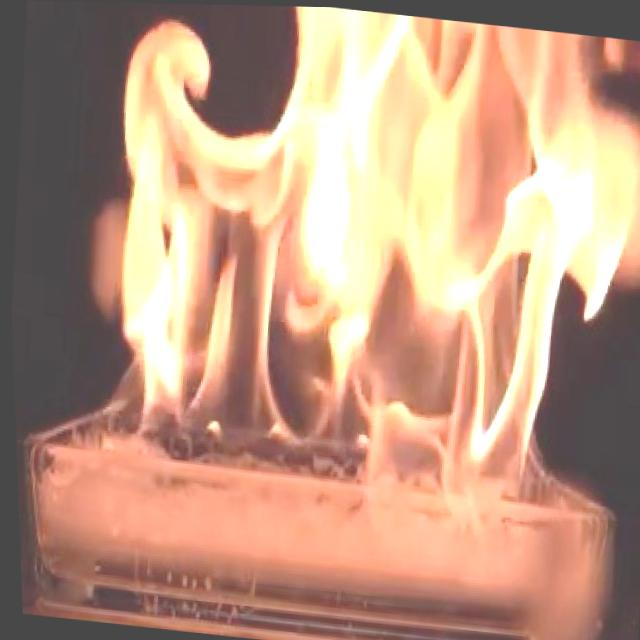Fire: (82, 1, 640, 550)
